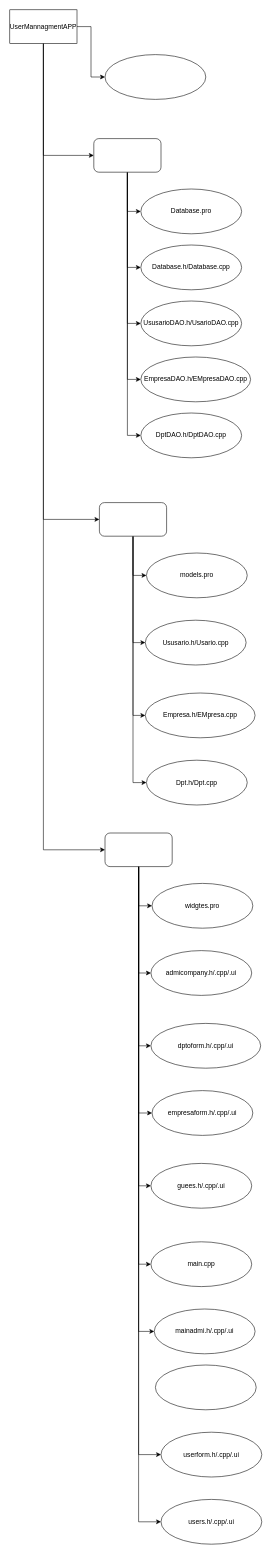
Image size: 272x1554. Some labels were removed from this diagram. The centre of each missing label's shape, as x and y in pixels:
"Batabase" goes at point 127,155.
"mainwindow.h/.cpp/.ui" goes at point 205,1387.
"Modelos" goes at point 133,519.
"UsermannagmentApp.pro" goes at point 155,76.
"Widgets" goes at point 138,849.
